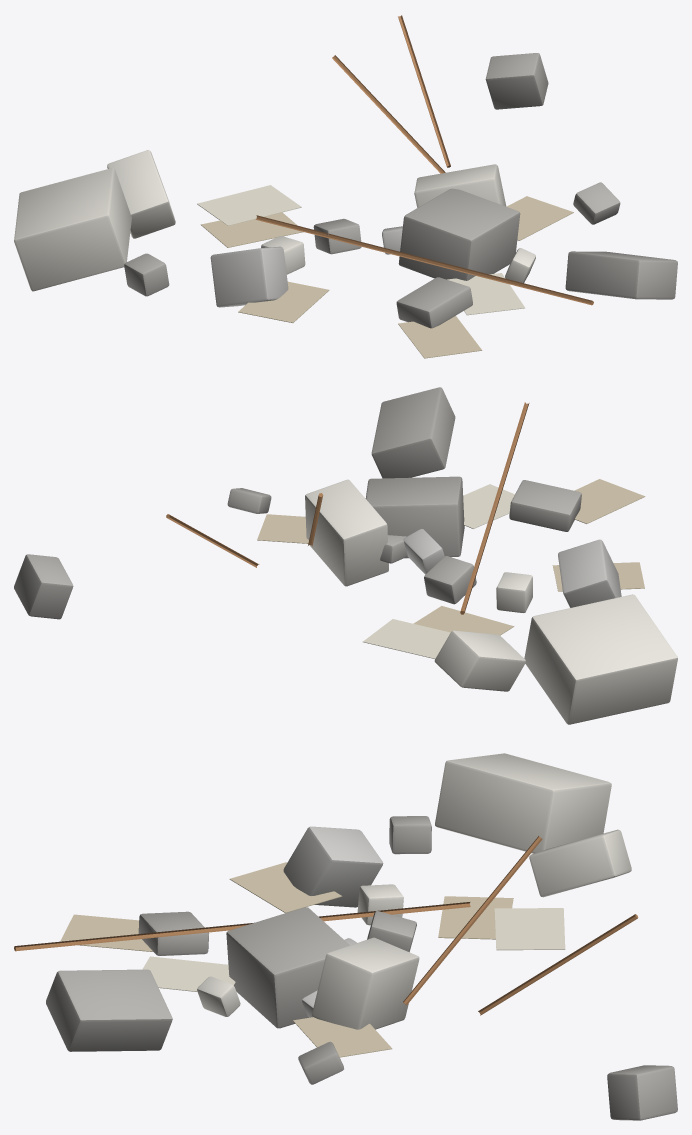
Rendered from debris_pile.glb.
The picture shows the model from 3 angles, top to bottom: view 1: azimuth 30°, elevation 25°; view 2: azimuth 150°, elevation 25°; view 3: azimuth 270°, elevation 25°; orthographic projection. The views are drawn at different scales.
Parts seen in each view (by area): view 1: debris_pile; view 2: debris_pile; view 3: debris_pile.
Boxes of the visible parts, box(x1,y1,x2,y2) form: debris_pile: box(14, 15, 677, 358); debris_pile: box(14, 387, 677, 724); debris_pile: box(14, 753, 677, 1120).
Size of what is drawn, in the model's own units: 2.37 by 0.5652 by 2.02.
